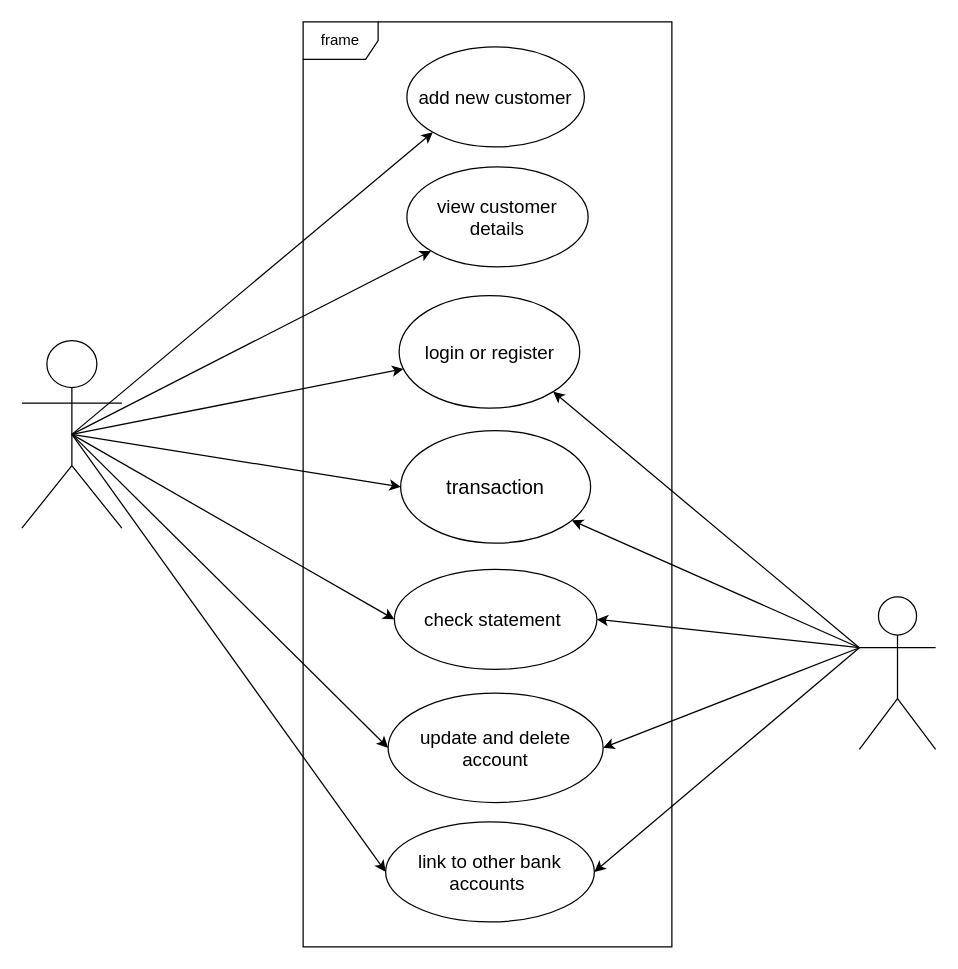
Image size: 958x969. Some labels were removed from this diagram. Each missing label, with the centre of its shape:
Clerk: the point at 71,433
Customer: the point at 897,672
